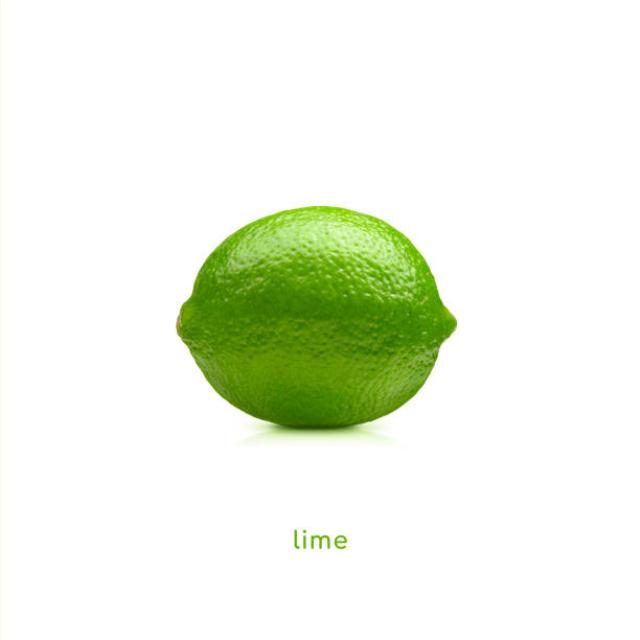Lemon: (176, 202, 458, 431)
